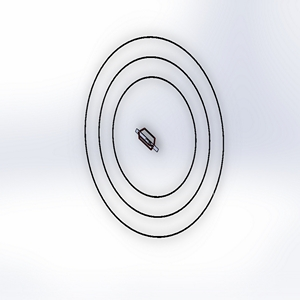circle: (80, 32, 230, 242)
submarine: (131, 122, 164, 167)
